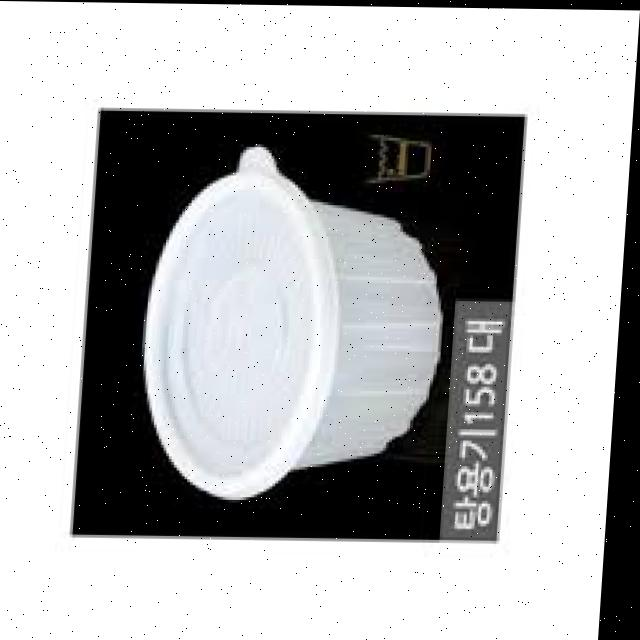disposable: (127, 145, 476, 513)
